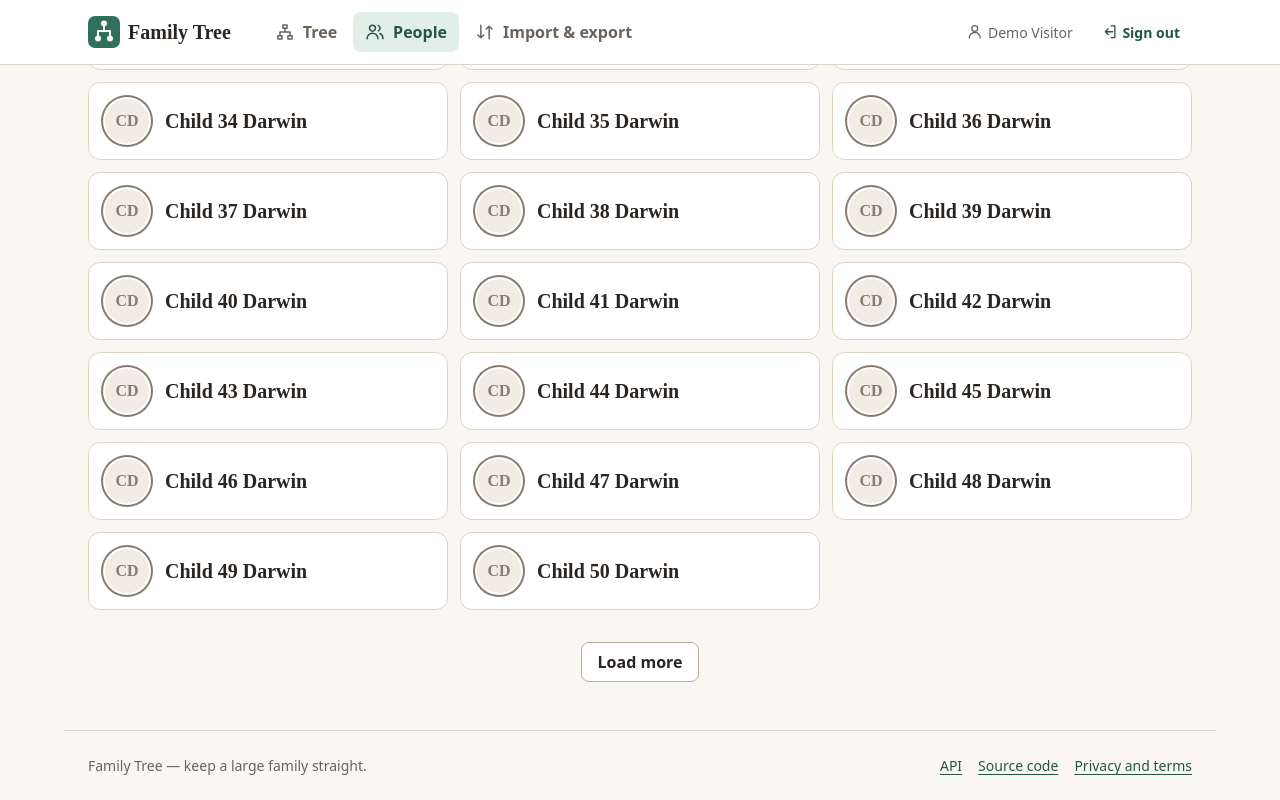
Test: long lists load more people on request
The image size is (1280, 800).
(page scrolled)
Step 1. Click the button "Load more" → (640,662), box [580, 642, 699, 682]
(page scrolled)
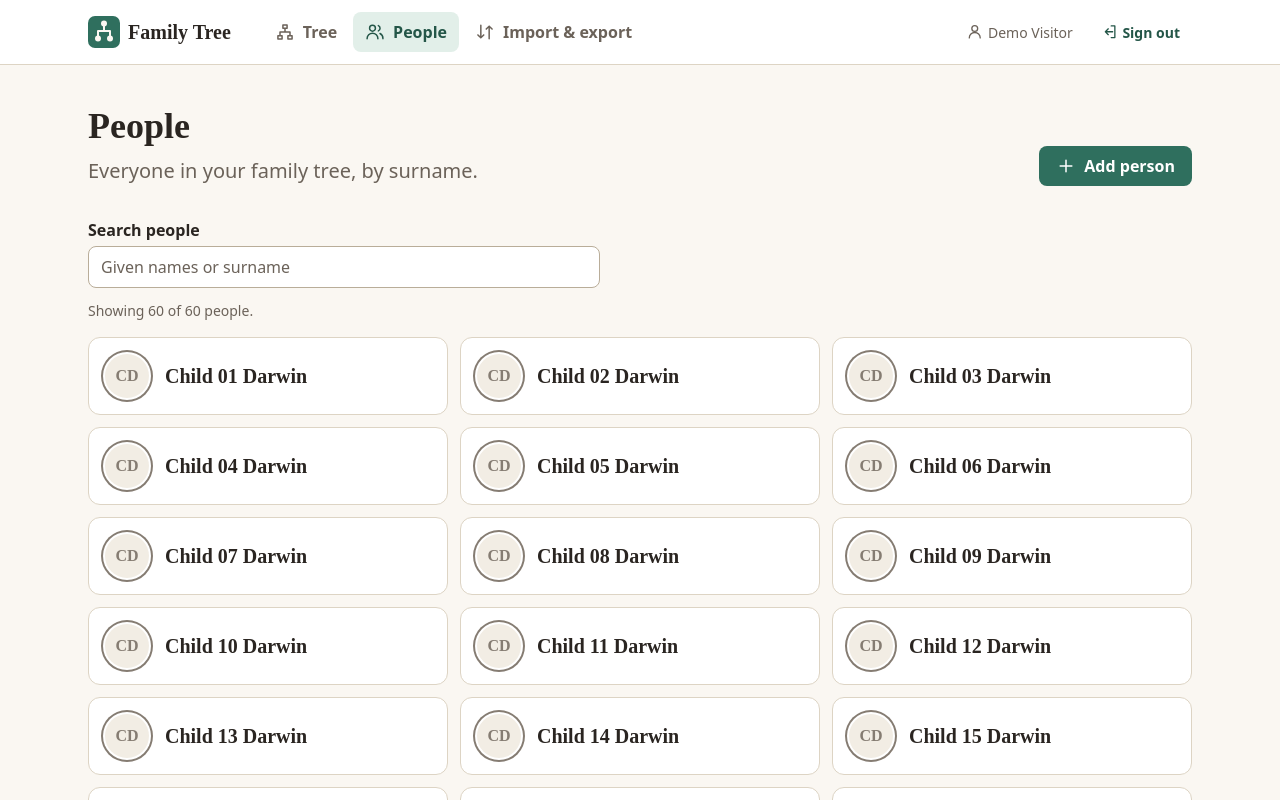
Expected: the text "Showing 60 of 60 people." is shown, [88, 301, 253, 320]
Expected: the button "Load more" is gone
